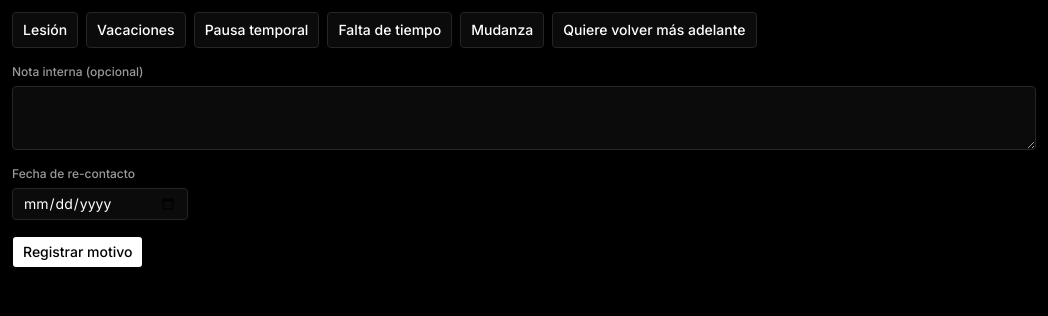
Test: InactivityReasonForm › asks for a reason before submitting
This screenshot has width=1048, height=316.
Step 1. Click the button "Registrar motivo" → x=78, y=252, box 12,236 -> 144,268
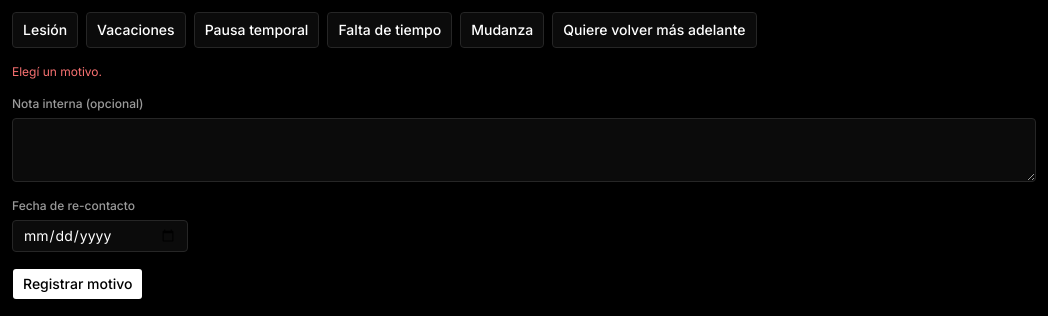
expect the text "Elegí un motivo." is shown: met, box 12,64 -> 102,79
